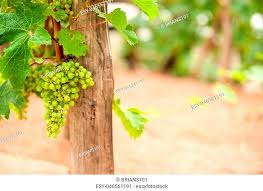grapes: (39, 61, 97, 142)
